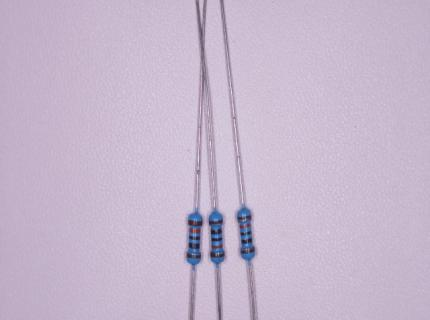Black band: (241, 237, 252, 244), (189, 242, 200, 249), (189, 235, 200, 241), (211, 229, 222, 234), (240, 230, 251, 235), (211, 238, 222, 241)
Brown band: (241, 247, 254, 254), (188, 220, 202, 226), (237, 214, 251, 220), (211, 252, 224, 258), (187, 254, 201, 259), (209, 220, 222, 225)
Orange band: (239, 223, 251, 229), (189, 228, 200, 233), (212, 244, 222, 249)
